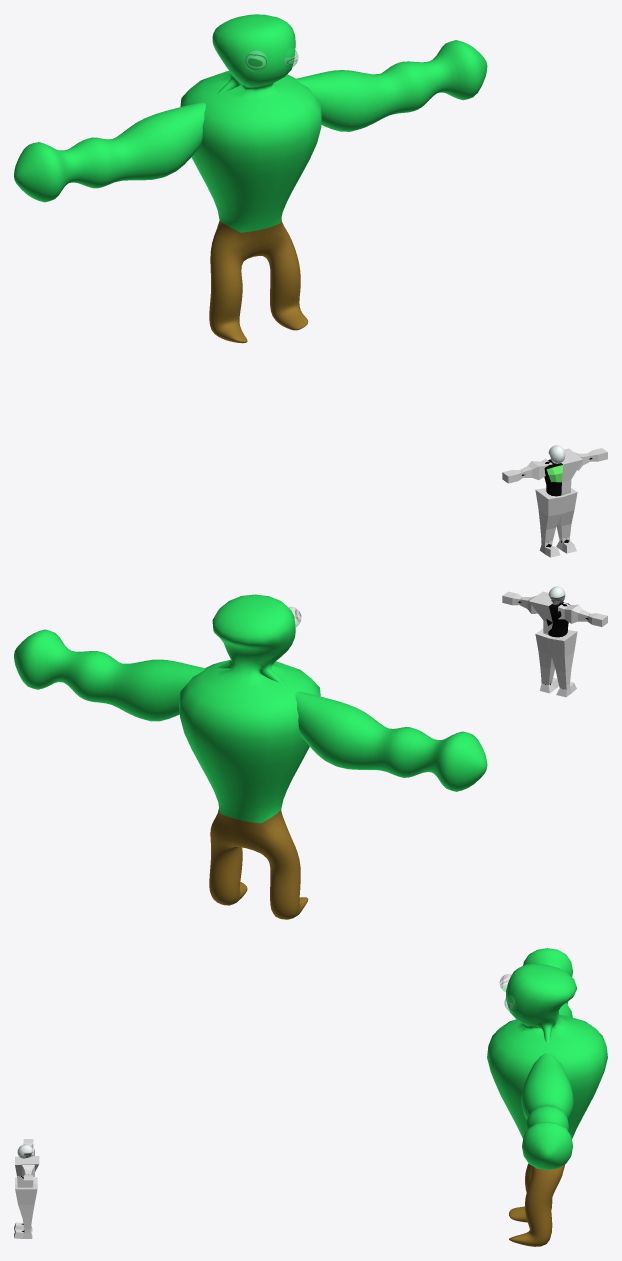
Rendered from captainbozo.glb.
3 renders of one model, top to bottom at view 1: azimuth 30°, elevation 25°; view 2: azimuth 150°, elevation 25°; view 3: azimuth 270°, elevation 25°, orthographic. The views are drawn at different scales.
Parts seen in each view (by area): view 1: Sphere.001, LegR, LegL, Ben; view 2: Sphere.001, LegR, LegL, Ben, ArmR, ChestPlate; view 3: Sphere.001, LegL.
Boxes of the visible parts, x1,y1,x2,y2 form: Sphere.001: (14, 14, 487, 343); LegR: (535, 488, 567, 557); LegL: (556, 488, 577, 553); Ben: (521, 445, 592, 547); Sphere.001: (14, 594, 487, 919); LegR: (545, 630, 577, 697); LegL: (535, 628, 558, 693); Ben: (518, 586, 589, 688); ArmR: (558, 602, 607, 626); ChestPlate: (529, 591, 552, 635); Sphere.001: (487, 948, 607, 1246); LegL: (14, 1184, 37, 1238).
Size of the model in its own units: 8.5 by 5.33 by 10.91.
Materials: 4 (4 with a texture image).
